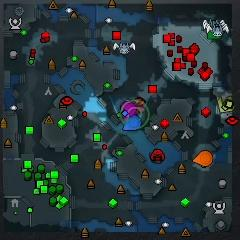Other: (119, 99, 150, 130)
p1: (121, 115, 142, 132)
p3: (120, 102, 137, 120)
p5: (193, 150, 213, 167)
x2: (217, 96, 234, 113)
x4: (207, 31, 220, 40)
